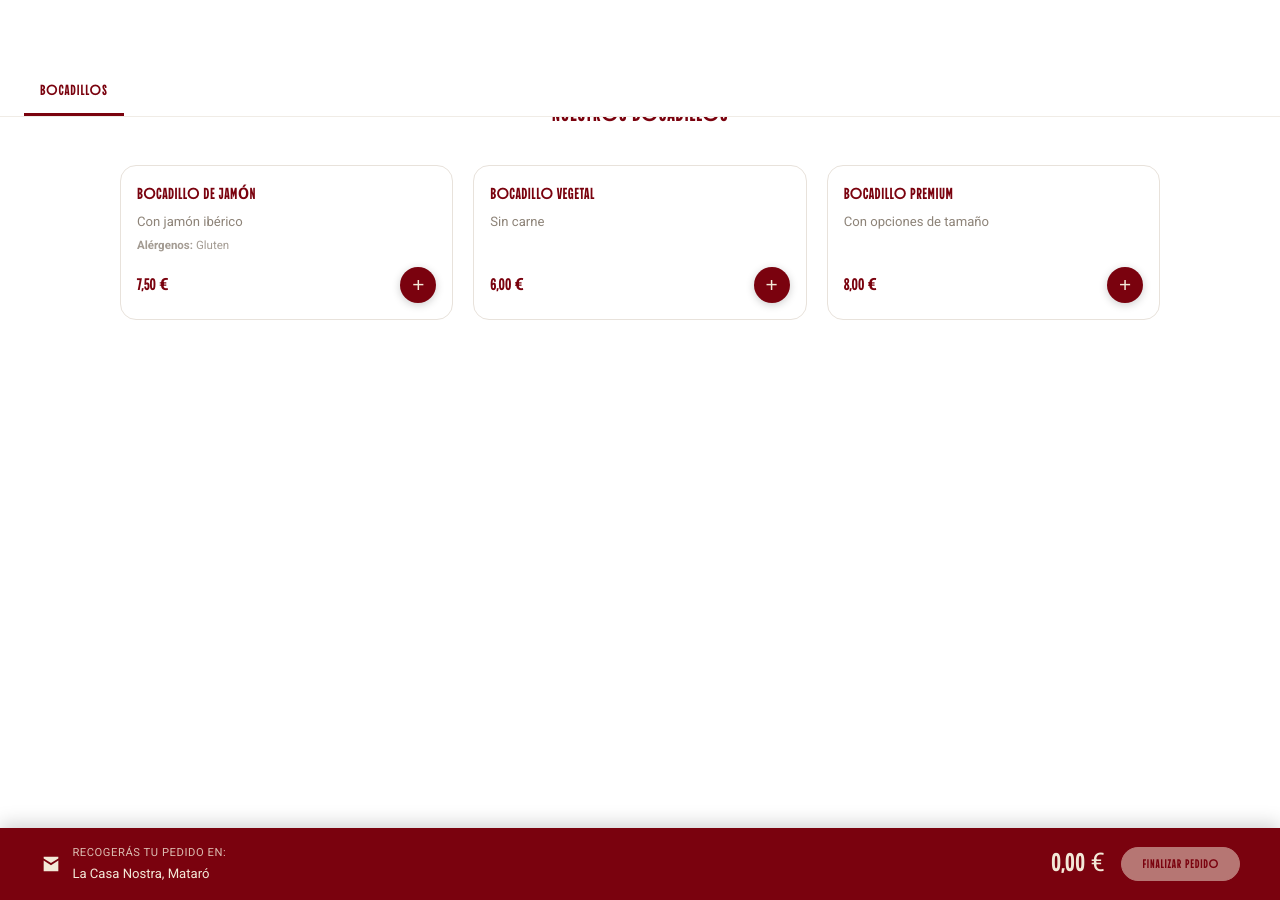
Test: OrderCatalog page › clicking product card opens the product modal
This screenshot has width=1280, height=900.
Check: the heading "Bocadillo de Jamón" is shown, box [137, 186, 256, 202]
Click the button with aria-label "Ver detalle de Bocadillo de Jamón".
click(196, 194)  # box [120, 165, 453, 320]
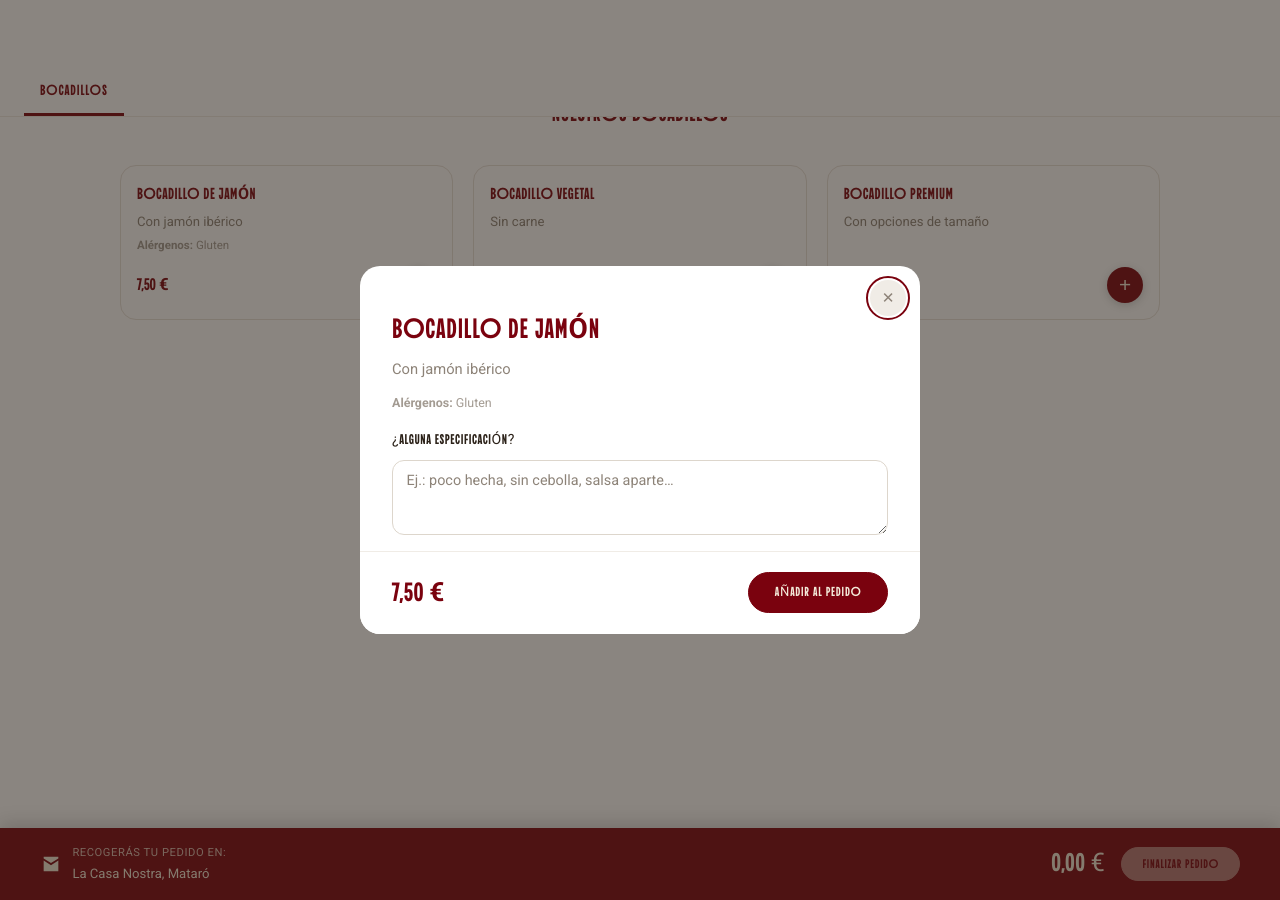
Check: the button named "Cerrar ficha del producto" is shown, box [870, 280, 906, 316]
Check: the button "Añadir al pedido" is shown, box [748, 572, 888, 613]
